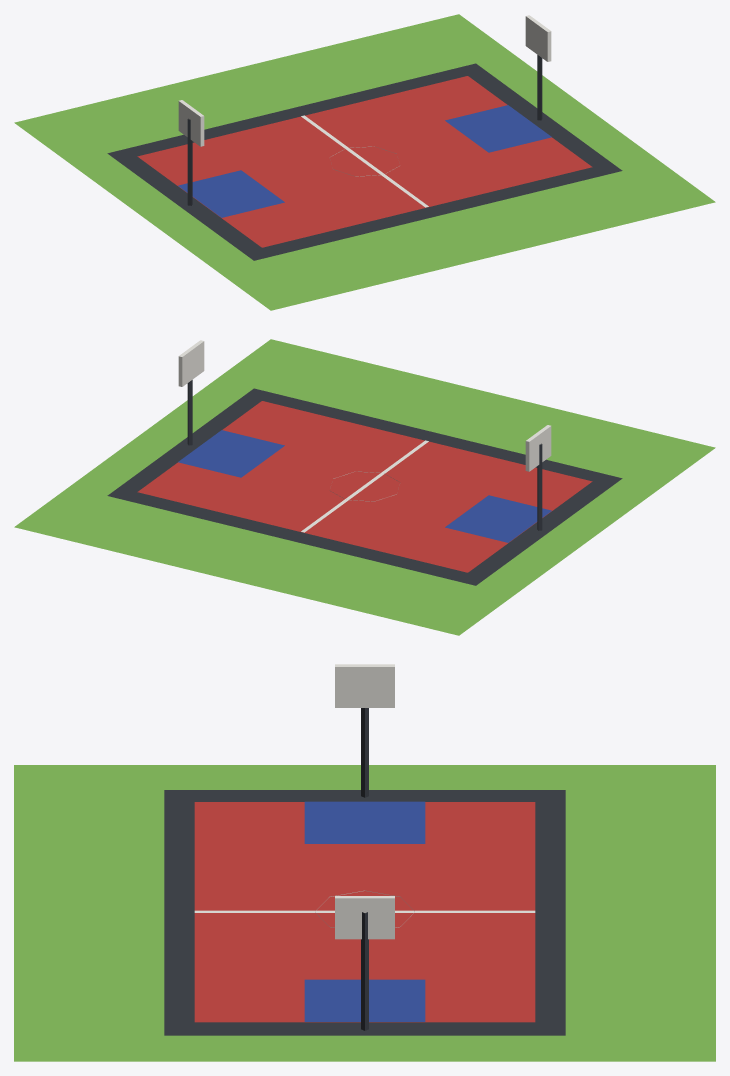
The model's file is L_Plaza.fbx.
3 views of the same model, one above another, from view 1: azimuth 30°, elevation 25°; view 2: azimuth 150°, elevation 25°; view 3: azimuth 270°, elevation 25° (orthographic). The views are drawn at different scales.
Visible parts, largest first — view 1: L_Plaza.001; view 2: L_Plaza.001; view 3: L_Plaza.001.
Part boxes in pixels (x1,y1,x2,y2): L_Plaza.001: (14,14,715,310); L_Plaza.001: (14,339,715,635); L_Plaza.001: (14,664,715,1061).
Size of the model in its own units: 7 by 1.45 by 7.
